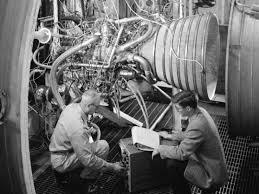thruster: (135, 11, 225, 103)
